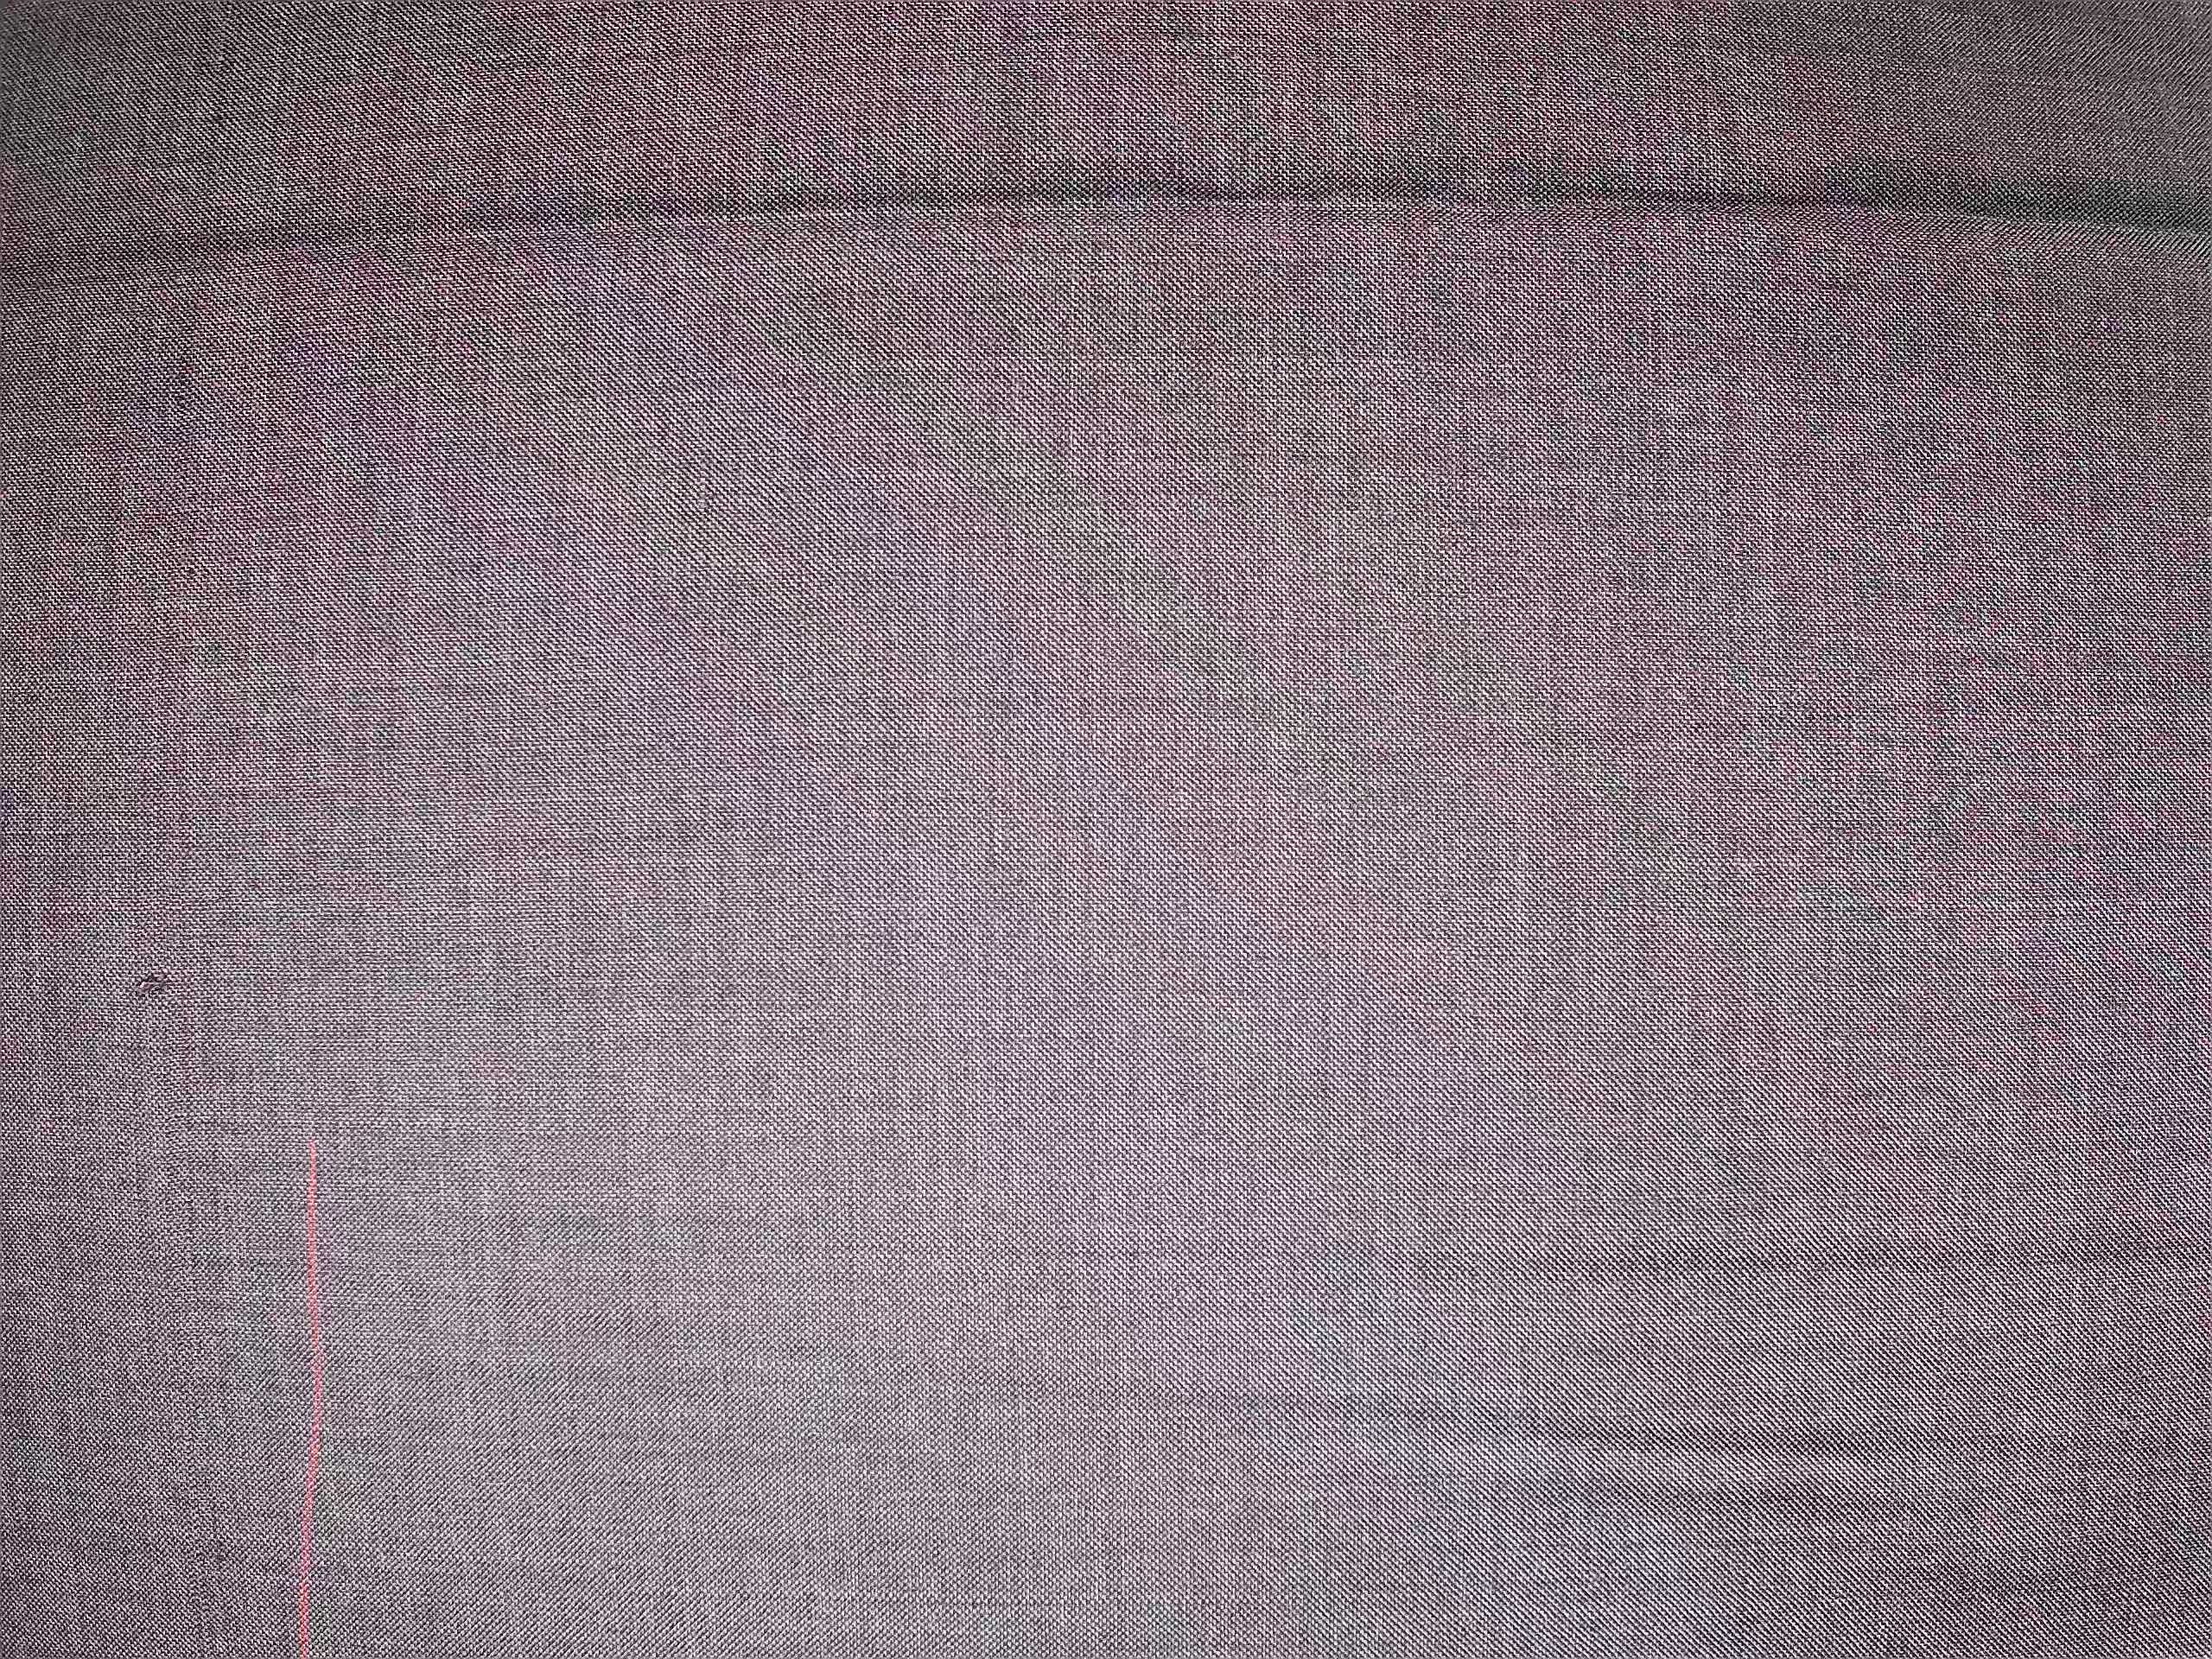rubbing-hole: (118, 957, 176, 1009)
